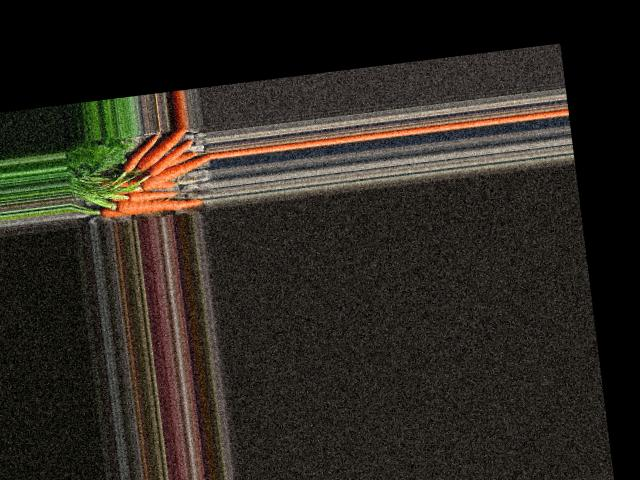carrot: (117, 134, 160, 173)
